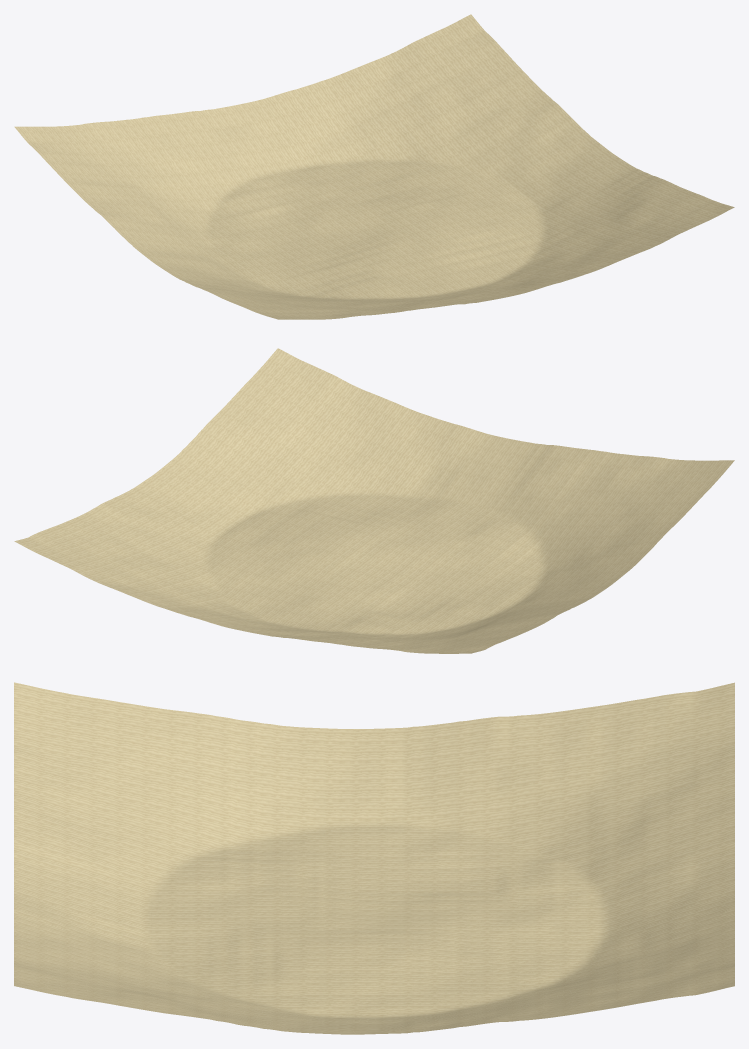
File: terreno_arrecifes.fbx
3 renders of one model, top to bottom at view 1: azimuth 30°, elevation 25°; view 2: azimuth 150°, elevation 25°; view 3: azimuth 270°, elevation 25°, orthographic. The views are drawn at different scales.
Parts seen in each view (by area): view 1: terreno_arrecifes; view 2: terreno_arrecifes; view 3: terreno_arrecifes.
Part boxes in pixels (x1=…): terreno_arrecifes: x1=14, y1=14, x2=734, y2=319; terreno_arrecifes: x1=14, y1=348, x2=734, y2=653; terreno_arrecifes: x1=14, y1=682, x2=734, y2=1034.
Size of the model in its own units: 110 by 15.6 by 110.
1 material, 1 textured.
